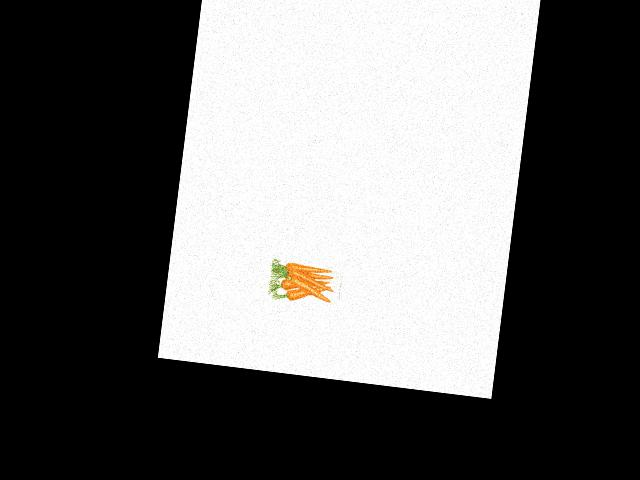carrot: (286, 268, 340, 287)
